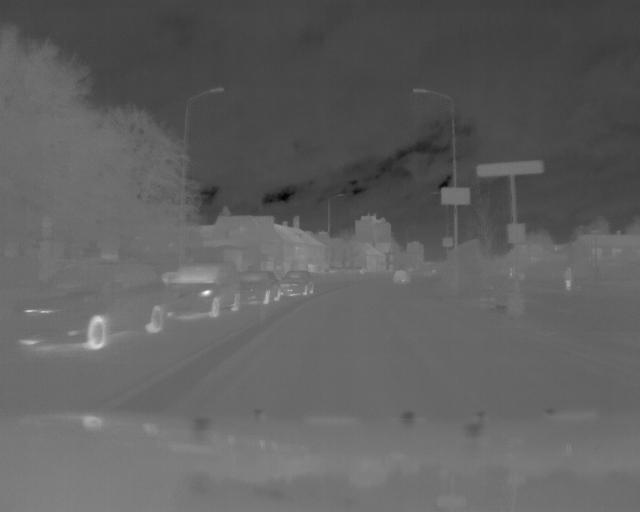car: (13, 256, 172, 352), (164, 257, 243, 320), (239, 267, 281, 304), (280, 268, 314, 295), (391, 267, 408, 283)
person: (562, 262, 573, 296)
